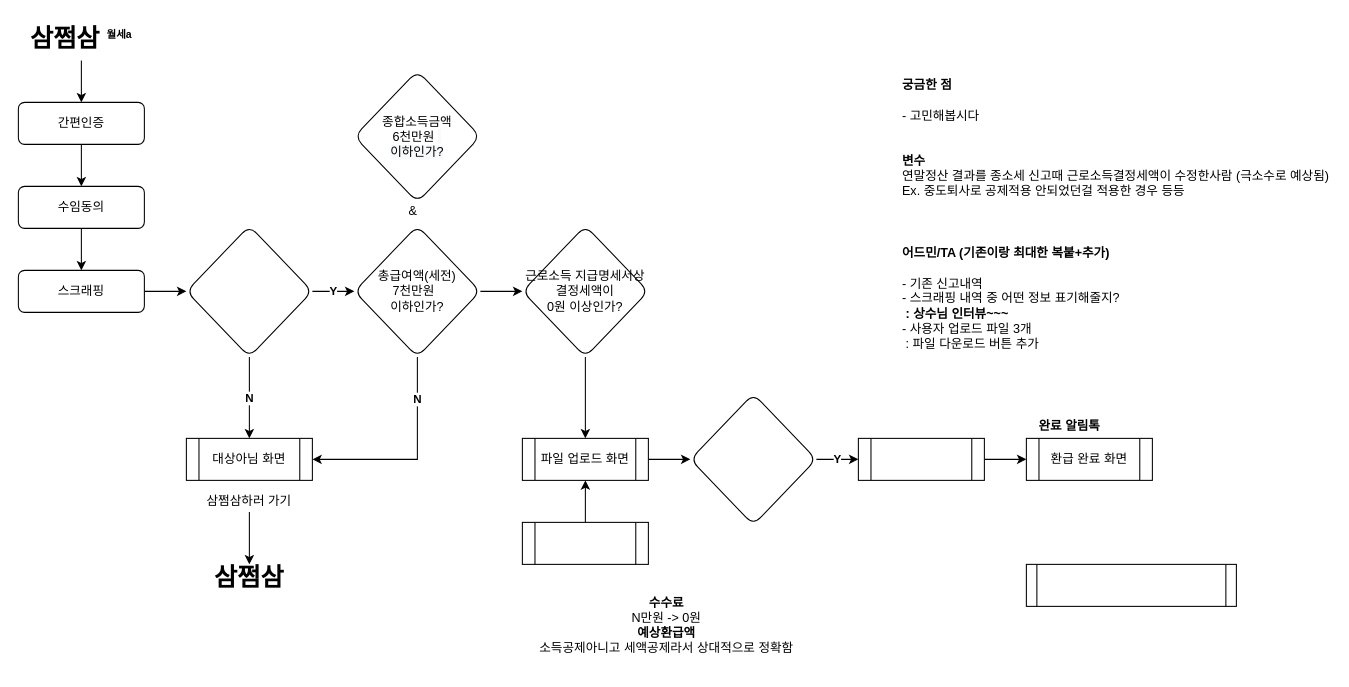
This 1349x687 diagram has some shape labels left out. The shapes that lost their labels are listed below. From the top down, each one's centre as x and y in pixels, then its label:
At (x=248, y=291): "근로소득이 있는가?".
At (x=752, y=459): "업로드 완료".
At (x=920, y=458): "환급신청 완료 화면".
At (x=584, y=542): "결제 화면".
At (x=1130, y=584): "마이페이지 > 신고리포트".
